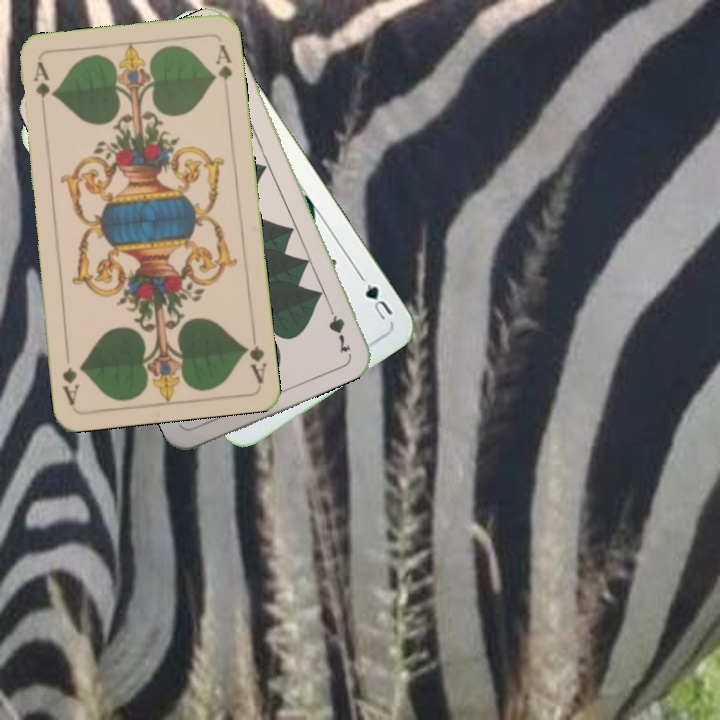G7: (323, 297, 354, 356)
GA: (240, 326, 269, 385), (29, 58, 52, 117)
GU: (361, 279, 396, 323)
